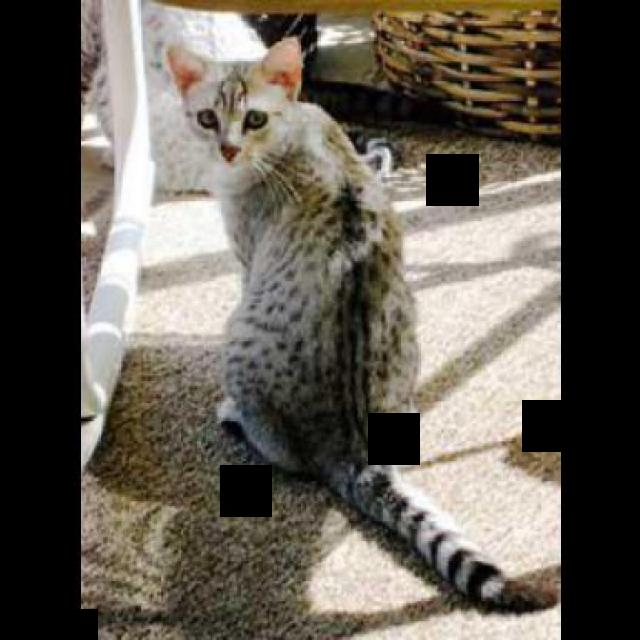unauthorized: (164, 34, 558, 614)
